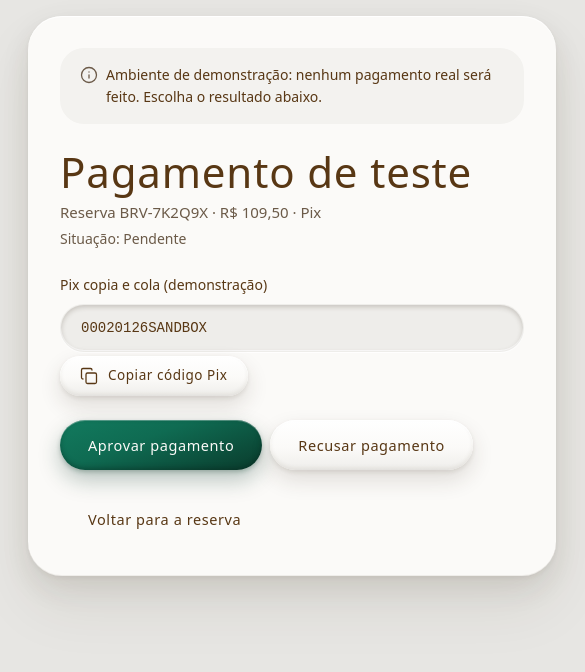
it: SandboxCheckoutPage (NUC-120) › shows the API message when the action is forbidden
Click the button "Aprovar pagamento" at (161, 445), box x1=60 y1=420 x2=262 y2=470
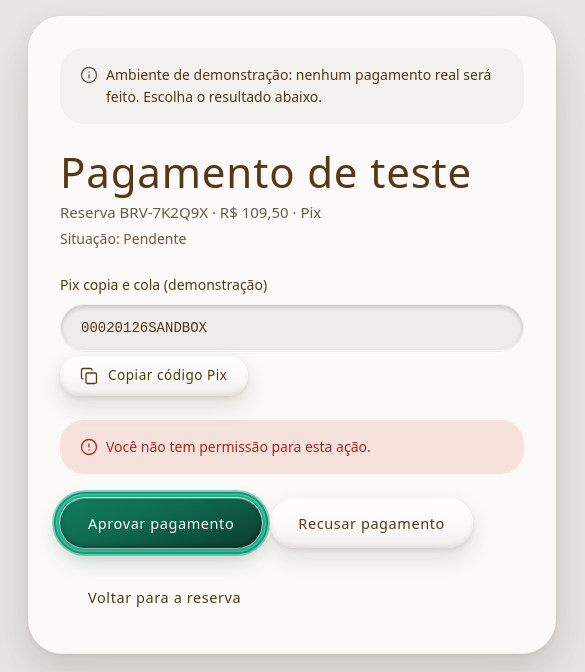
Expected: the text "Você não tem permissão para esta ação." is shown, x1=106 y1=437 x2=371 y2=456
